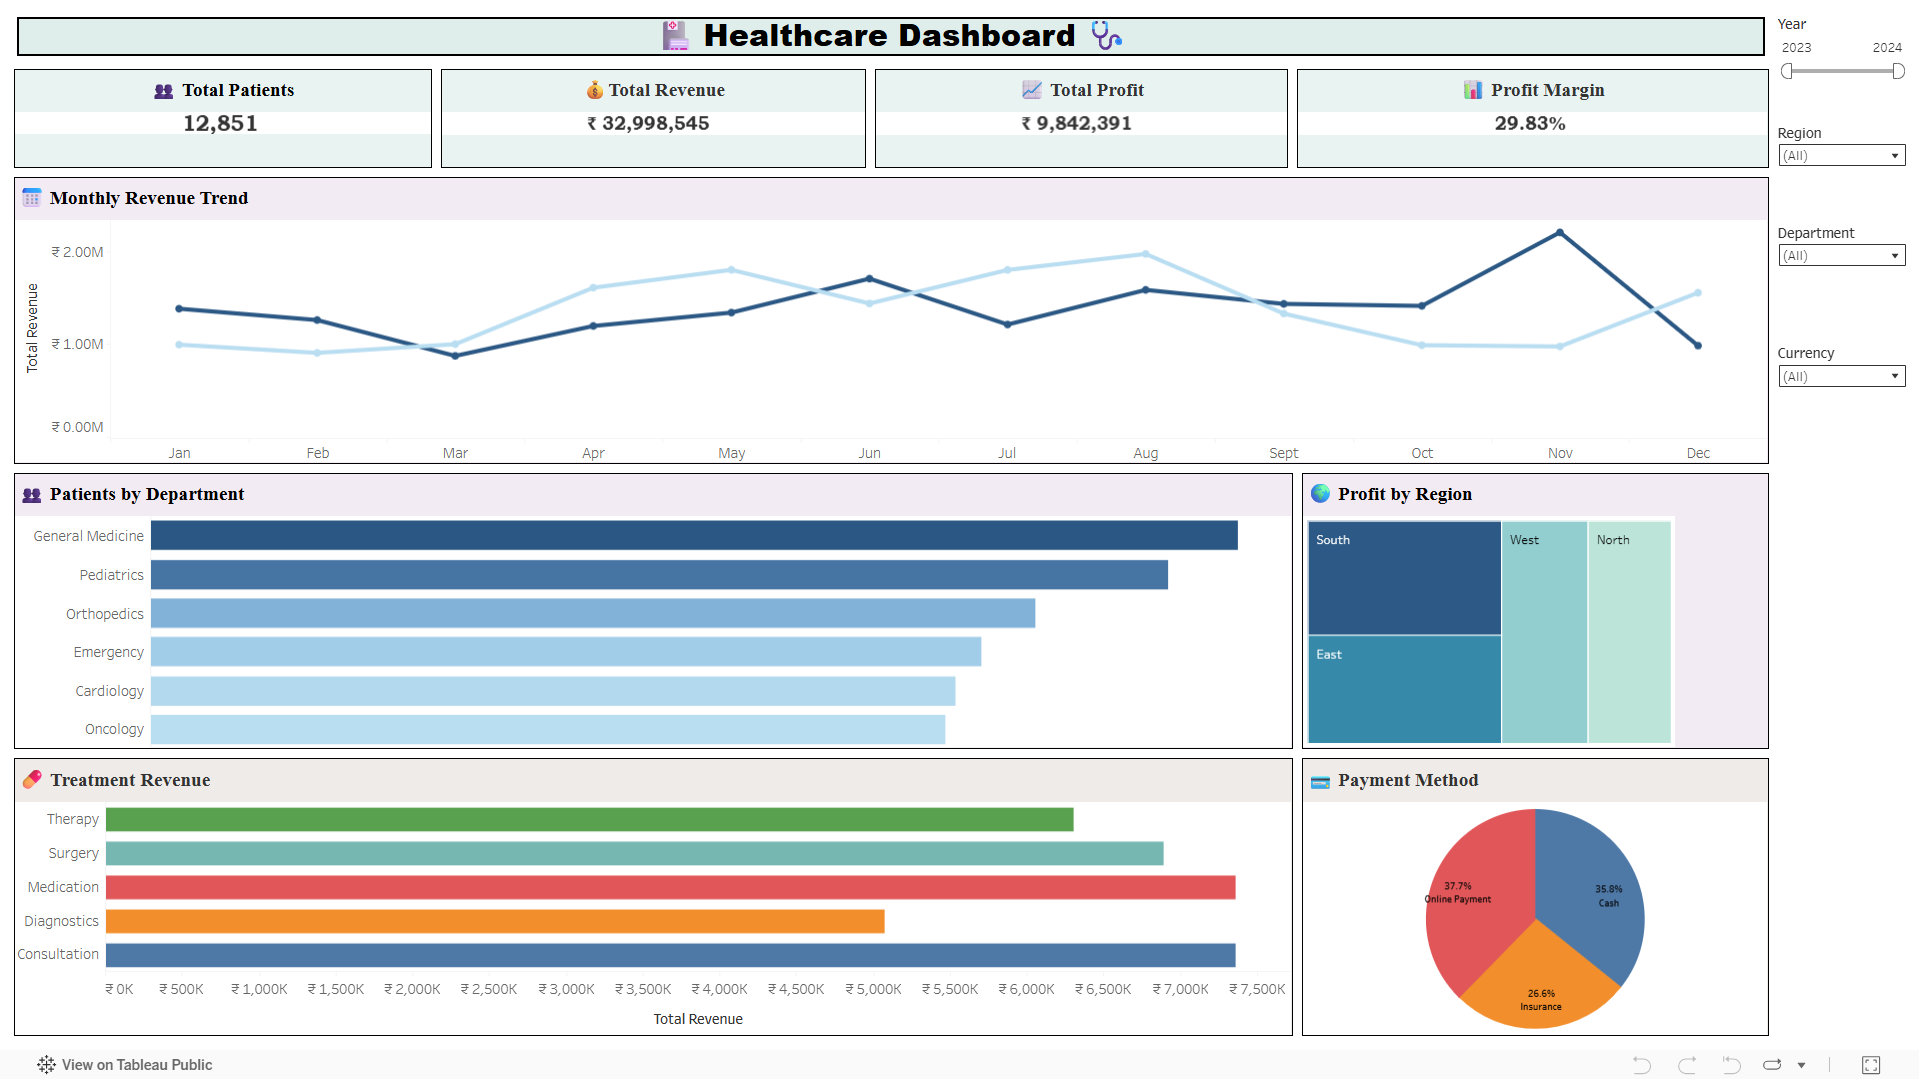

What the dashboard file says about the page in this screenshot:
{"tool":"tableau","page":{"name":"Dashboard 1","canvas":[1000,1000],"units":"permille","ordinal":0},"visuals":[{"type":"title","box":[4.8,10,916.1,76.2]},{"type":"filter","title":"Profit Margin","param":"[federated.1v1nkct100sczg143gvr70y8m9rw].[none:Year:qk]","box":[920.9,10,74.2,121.1]},{"type":"worksheet","title":"Total Patients","mark":"Automatic","box":[4.8,86.2,221.9,99.6]},{"type":"worksheet","title":"Total Revenue","mark":"Automatic","box":[226.8,86.2,225.8,99.6]},{"type":"worksheet","title":"Total Profit","mark":"Automatic","box":[452.6,86.2,219,99.6]},{"type":"worksheet","title":"Profit Margin","mark":"Automatic","box":[671.5,86.2,249.4,99.6]},{"type":"filter","title":"Profit Margin","param":"[federated.1v1nkct100sczg143gvr70y8m9rw].[none:Region:nk]","box":[920.9,131.1,74.2,111.1]},{"type":"worksheet","title":"Revenue Trend","mark":"Line","rows":["Total_Revenue"],"cols":["Date"],"box":[4.8,185.7,916.1,274.3]},{"type":"filter","title":"Profit Margin","param":"[federated.1v1nkct100sczg143gvr70y8m9rw].[none:Department:nk]","box":[920.9,242.2,74.2,133.6]},{"type":"filter","title":"Profit Margin","param":"[federated.1v1nkct100sczg143gvr70y8m9rw].[none:Currency:nk]","box":[920.9,375.8,74.2,76.2]},{"type":"worksheet","title":"By Department","mark":"Automatic","rows":["Department"],"cols":["Number_of_Patients"],"box":[4.8,460,669.2,264.4]},{"type":"worksheet","title":"Profit by Region","mark":"Automatic","box":[674,460,246.9,264.4]},{"type":"worksheet","title":"Revenue by Treatment","mark":"Automatic","rows":["Treatment_Type"],"cols":["Total_Revenue"],"box":[4.8,724.4,669.2,265.7]},{"type":"worksheet","title":"Payment Method Share","mark":"Pie","box":[674,724.4,246.9,265.7]}]}

Visuals, with their boxes on the dashboard's canvas, which has no fixed pixel size, in thousandths of its width and height (x1, y1, x2, y2). These are canvas units, not pixel positions in the 1919x1079 screenshot, which may show the page scaled, cropped or inside an application window:
title: (left=5, top=10, right=921, bottom=86)
"Profit Margin" filter: (left=921, top=10, right=995, bottom=131)
"Total Patients" worksheet: (left=5, top=86, right=227, bottom=186)
"Total Revenue" worksheet: (left=227, top=86, right=453, bottom=186)
"Total Profit" worksheet: (left=453, top=86, right=672, bottom=186)
"Profit Margin" worksheet: (left=672, top=86, right=921, bottom=186)
"Profit Margin" filter: (left=921, top=131, right=995, bottom=242)
"Revenue Trend" worksheet (Line marks): (left=5, top=186, right=921, bottom=460)
"Profit Margin" filter: (left=921, top=242, right=995, bottom=376)
"Profit Margin" filter: (left=921, top=376, right=995, bottom=452)
"By Department" worksheet: (left=5, top=460, right=674, bottom=724)
"Profit by Region" worksheet: (left=674, top=460, right=921, bottom=724)
"Revenue by Treatment" worksheet: (left=5, top=724, right=674, bottom=990)
"Payment Method Share" worksheet (Pie marks): (left=674, top=724, right=921, bottom=990)
